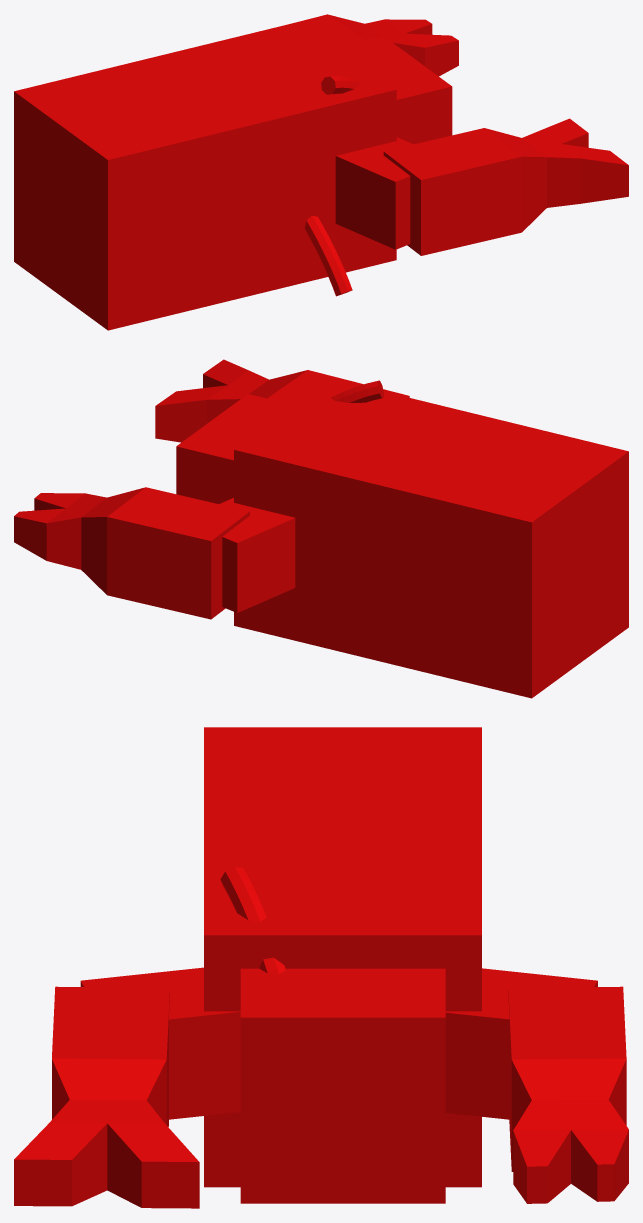
File: MetalDetector.glb
3 views of the same model, one above another, from view 1: azimuth 30°, elevation 25°; view 2: azimuth 150°, elevation 25°; view 3: azimuth 270°, elevation 25° (orthographic). The views are drawn at different scales.
Visible parts, largest first — view 1: Cube.003, Cube.002, Cube, Cube.001, Cube.005, NurbsCurve.001, NurbsCurve; view 2: Cube.003, Cube.005, Cube.004, Cube.002, Cube.001, NurbsCurve; view 3: Cube.003, Cube.001, Cube.002, Cube.005, Cube, Cube.004, NurbsCurve.
Part boxes in pixels (box(x1,y1,x2,y2)): Cube.003: box(14, 21, 396, 330); Cube.002: box(383, 118, 628, 255); Cube: box(335, 137, 412, 249); Cube.001: box(338, 35, 452, 144); Cube.005: box(302, 14, 458, 76); NurbsCurve.001: box(304, 215, 352, 296); NurbsCurve: box(321, 76, 360, 94); Cube.003: box(234, 378, 628, 698); Cube.005: box(14, 487, 249, 619); Cube.004: box(219, 498, 295, 612); Cube.002: box(155, 359, 409, 442); Cube.001: box(176, 394, 293, 503); NurbsCurve: box(331, 380, 383, 402); Cube.003: box(204, 727, 481, 1187); Cube.001: box(240, 968, 445, 1203); Cube.002: box(14, 986, 199, 1208); Cube.005: box(508, 986, 628, 1203); Cube: box(80, 967, 240, 1119); Cube.004: box(445, 968, 597, 1119); NurbsCurve: box(220, 867, 285, 974).
Bounding box in the file's own units: 5.65 × 2.22 × 4.42.
